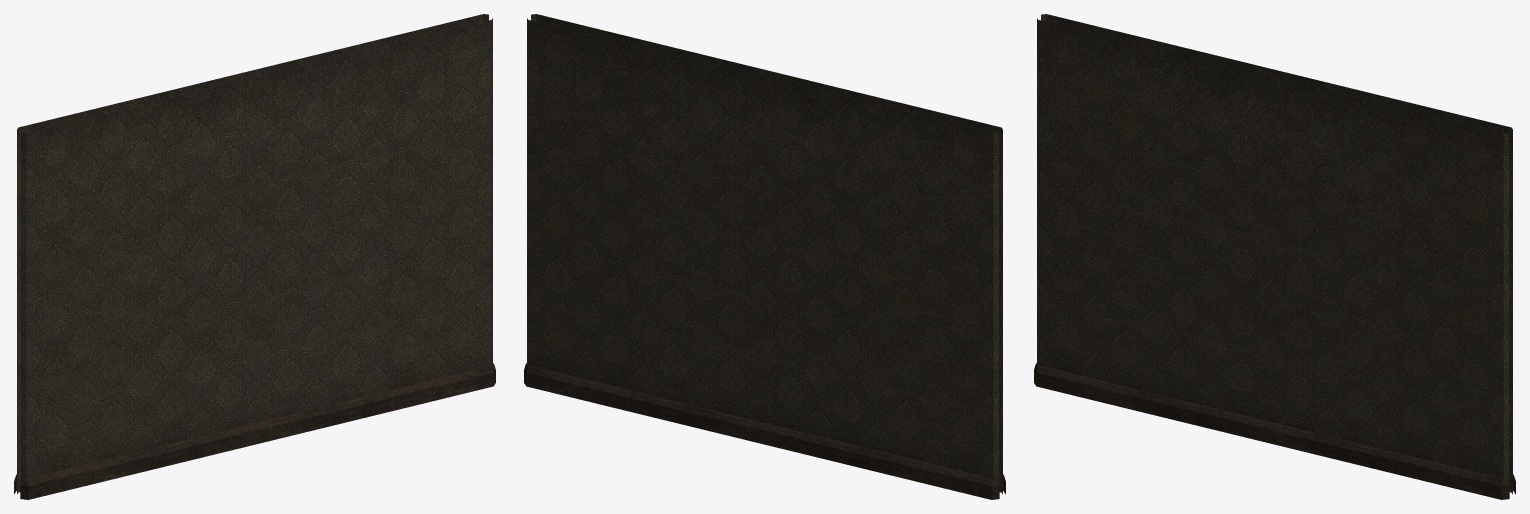
File: wall_2_1.glb
3 renders of one model, left to right at view 1: azimuth 30°, elevation 25°; view 2: azimuth 150°, elevation 25°; view 3: azimuth 330°, elevation 25°, orthographic.
Visible parts, largest first — view 1: wall_2_1; view 2: wall_2_1; view 3: wall_2_1.
Part boxes in pixels (box(x1,y1,x2,y2)): wall_2_1: box(14, 14, 495, 499); wall_2_1: box(524, 14, 1005, 499); wall_2_1: box(1034, 14, 1515, 499).
Size of the model in its own units: 4.09 by 3 by 0.18.
Materials: 2 (2 with a texture image).
